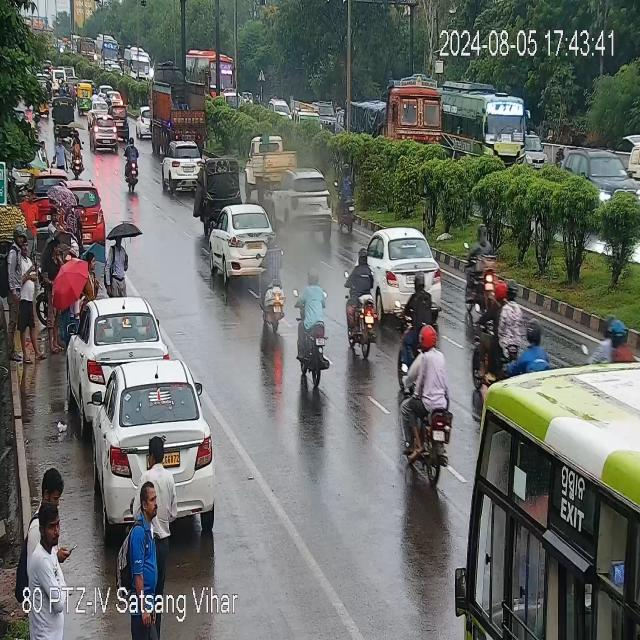2-wheelers: (402, 327, 451, 481), (294, 280, 328, 391), (344, 254, 379, 355), (462, 219, 494, 314), (255, 241, 286, 328), (584, 318, 638, 366), (507, 327, 553, 374), (400, 275, 436, 332), (336, 165, 356, 233), (123, 141, 142, 192), (70, 126, 83, 178), (59, 80, 67, 92), (92, 88, 99, 100), (105, 94, 111, 107)
auto: (195, 158, 244, 225), (54, 91, 80, 138), (75, 80, 94, 112)
bus: (466, 360, 640, 640), (442, 82, 530, 160), (124, 45, 154, 82), (93, 35, 121, 62)
car: (80, 357, 220, 518), (69, 297, 169, 396), (364, 228, 445, 310), (208, 207, 274, 281), (557, 143, 638, 195), (274, 170, 332, 237), (165, 142, 211, 189), (87, 118, 125, 152), (522, 134, 548, 168), (109, 103, 130, 136), (134, 106, 152, 139), (318, 100, 338, 129), (270, 98, 292, 121), (87, 100, 108, 123), (294, 108, 319, 126), (98, 83, 115, 99), (107, 90, 123, 106)
pedestrian: (119, 490, 175, 598), (24, 513, 77, 603), (139, 437, 181, 534), (16, 245, 46, 358), (105, 231, 130, 296), (34, 135, 66, 171), (85, 247, 103, 301)
truck: (344, 84, 442, 149), (153, 84, 212, 152), (190, 49, 242, 103), (243, 137, 287, 199), (76, 37, 95, 62)
